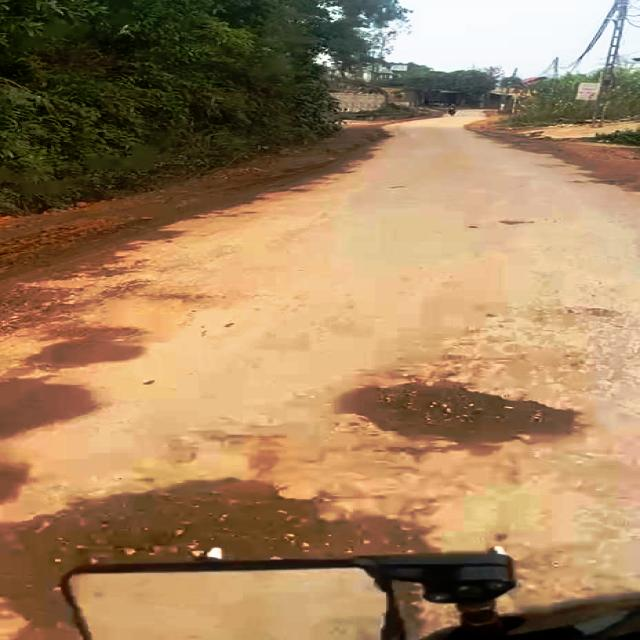pothole: (4, 478, 442, 612), (345, 375, 578, 446)
